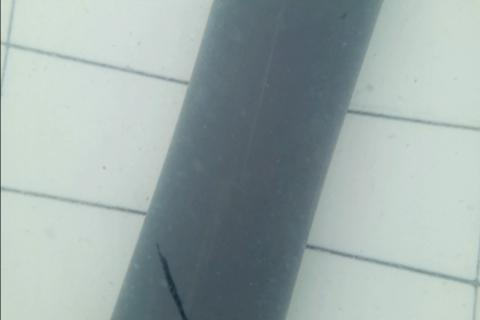keretakan: (155, 241, 189, 319)
